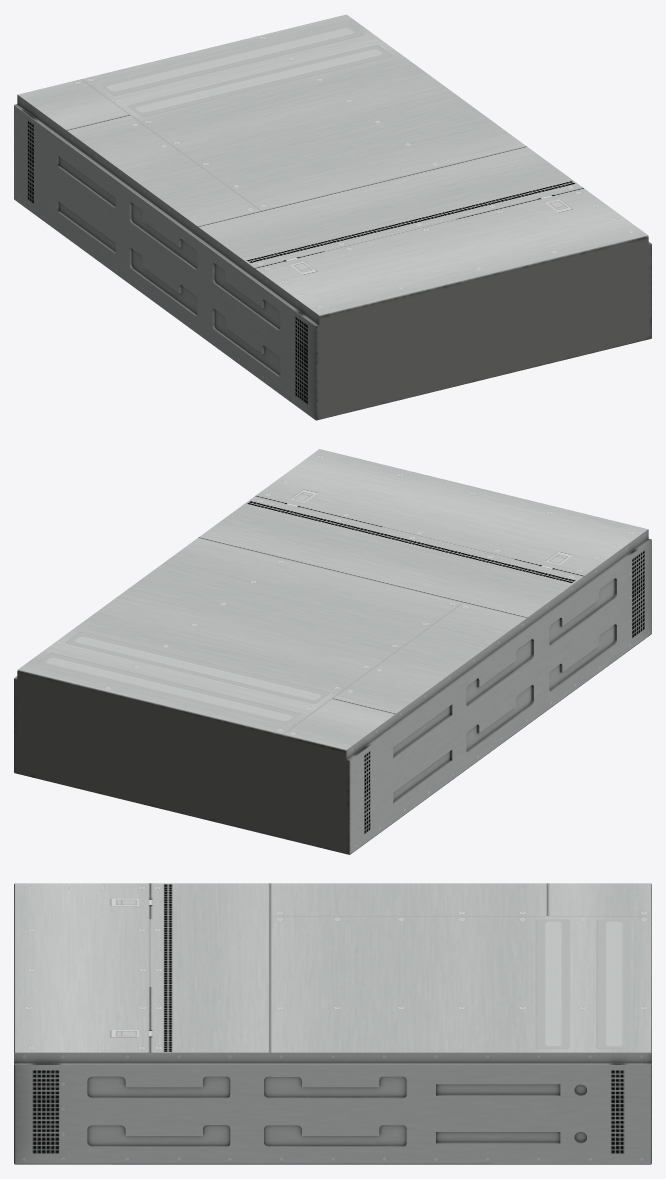
The model's file is zhongjian.obj.
3 views of the same model, one above another, from view 1: azimuth 30°, elevation 25°; view 2: azimuth 150°, elevation 25°; view 3: azimuth 270°, elevation 25° (orthographic). The views are drawn at different scales.
Parts seen in each view (by area): view 1: ChamferBox02; view 2: ChamferBox02; view 3: ChamferBox02.
Boxes of the visible parts, bbox=[...] form: ChamferBox02: bbox=[14, 14, 651, 420]; ChamferBox02: bbox=[14, 449, 651, 854]; ChamferBox02: bbox=[14, 883, 651, 1164].
Bounding box in the file's own units: 45.02 × 13.35 × 70.01.
